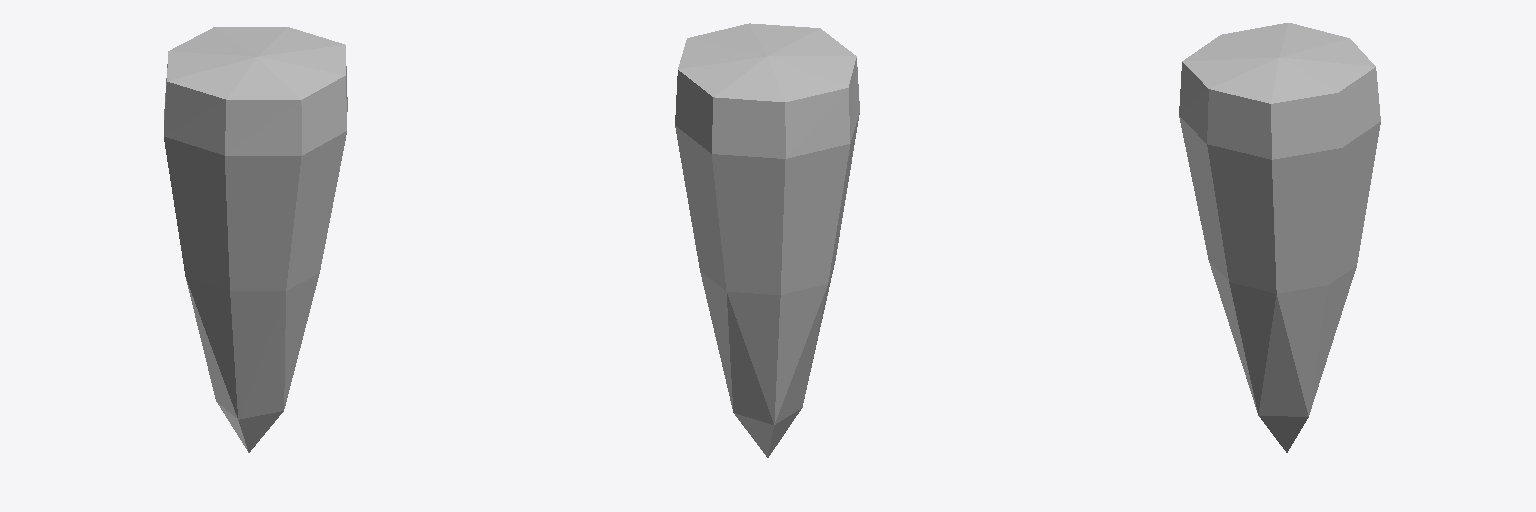
The model's file is step_stone_01_lava.obj.
3 renders of one model, left to right at view 1: azimuth 30°, elevation 25°; view 2: azimuth 150°, elevation 25°; view 3: azimuth 270°, elevation 25°, orthographic.
Visible parts, largest first — view 1: step_stone_01_lava; view 2: step_stone_01_lava; view 3: step_stone_01_lava.
Boxes of the visible parts, x1,y1,x2,y2 form: step_stone_01_lava: [164, 27, 347, 452]; step_stone_01_lava: [675, 23, 859, 457]; step_stone_01_lava: [1179, 23, 1380, 452].
Size of the model in its own units: 153 by 332 by 153.